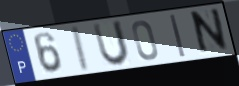0: (131, 19, 160, 62)
6: (33, 31, 63, 75)
I: (71, 24, 92, 74), (168, 13, 188, 59)
N: (191, 6, 230, 58)
U: (91, 19, 132, 68)
